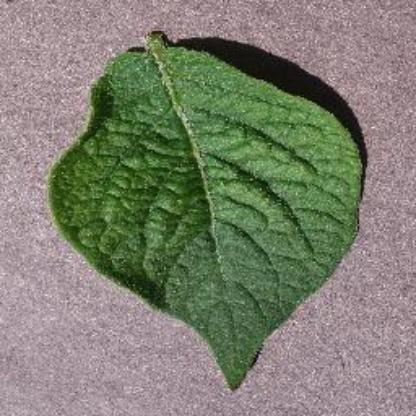Healthy-plant: (48, 32, 366, 402)
